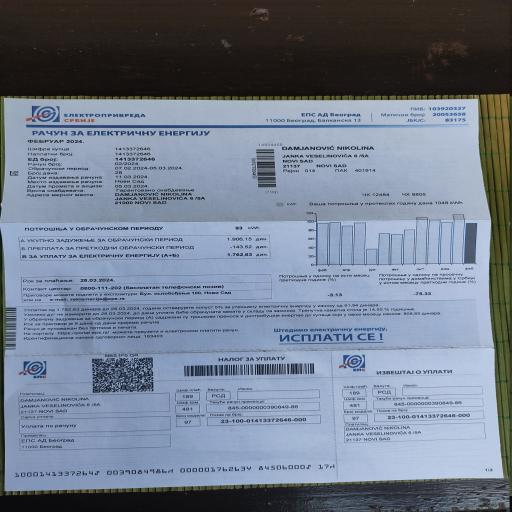racun_za_struju: (16, 224, 276, 286)
